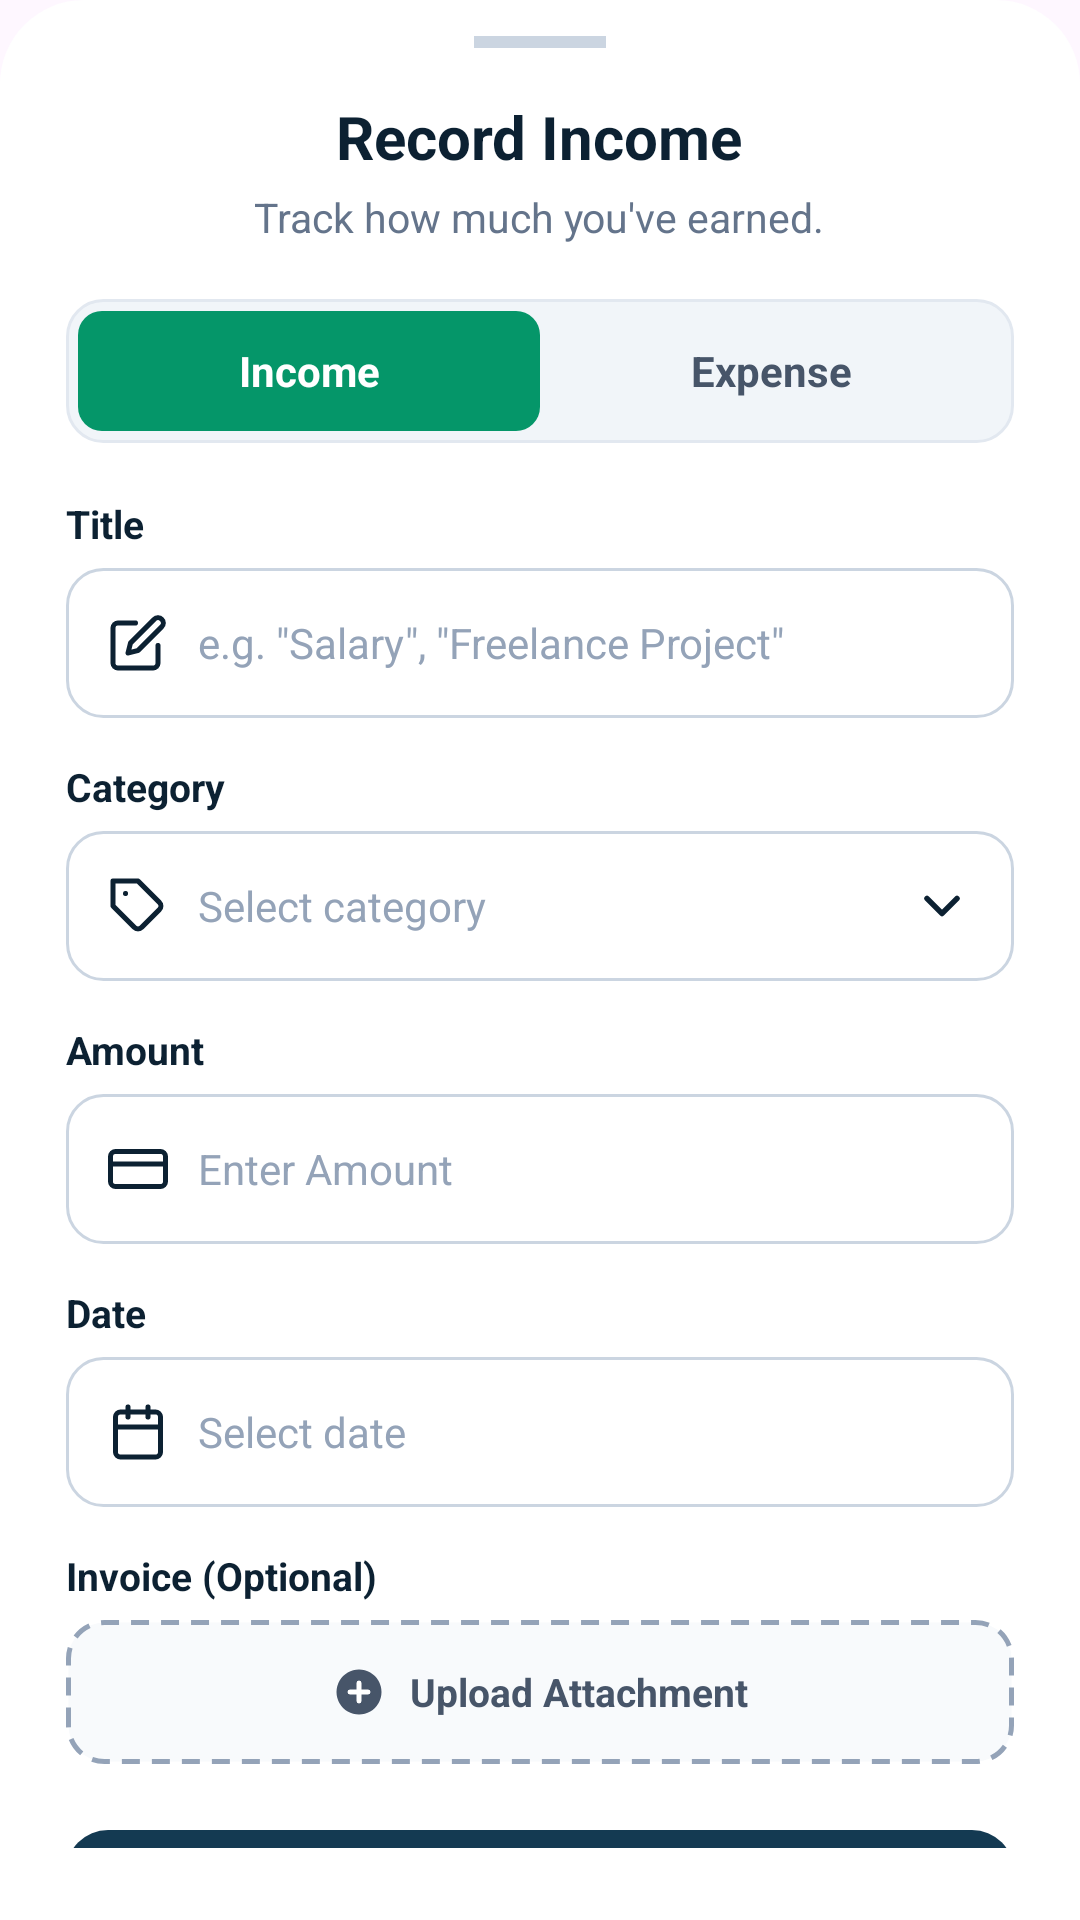

Icon bounding boxes for this 1080 × 1920 phone screenshot, format (x1, y1, x2, y2):
chevron down: (924, 895, 960, 917)
field calendar: (113, 1404, 163, 1460)
field card: (108, 1149, 168, 1189)
field edit: (110, 615, 166, 671)
field tag: (110, 878, 164, 932)
upload plus: (336, 1669, 382, 1715)
